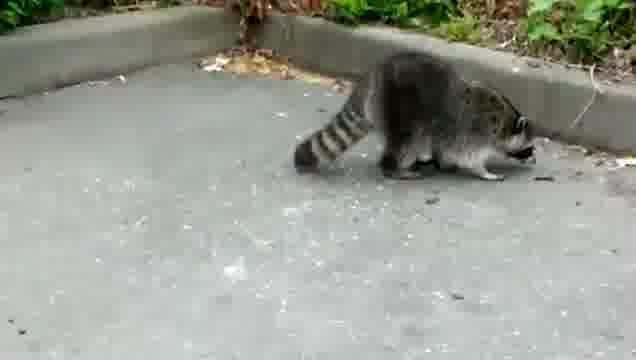raccoon: (291, 49, 541, 184)
